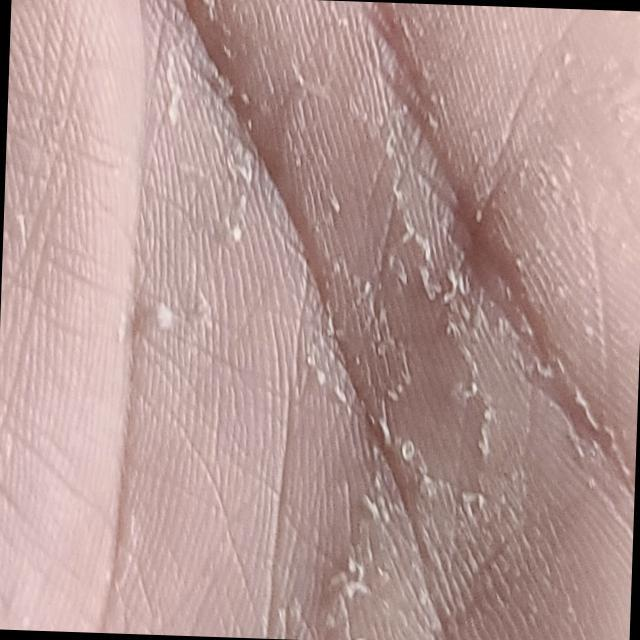Eczema: (140, 0, 629, 640)
